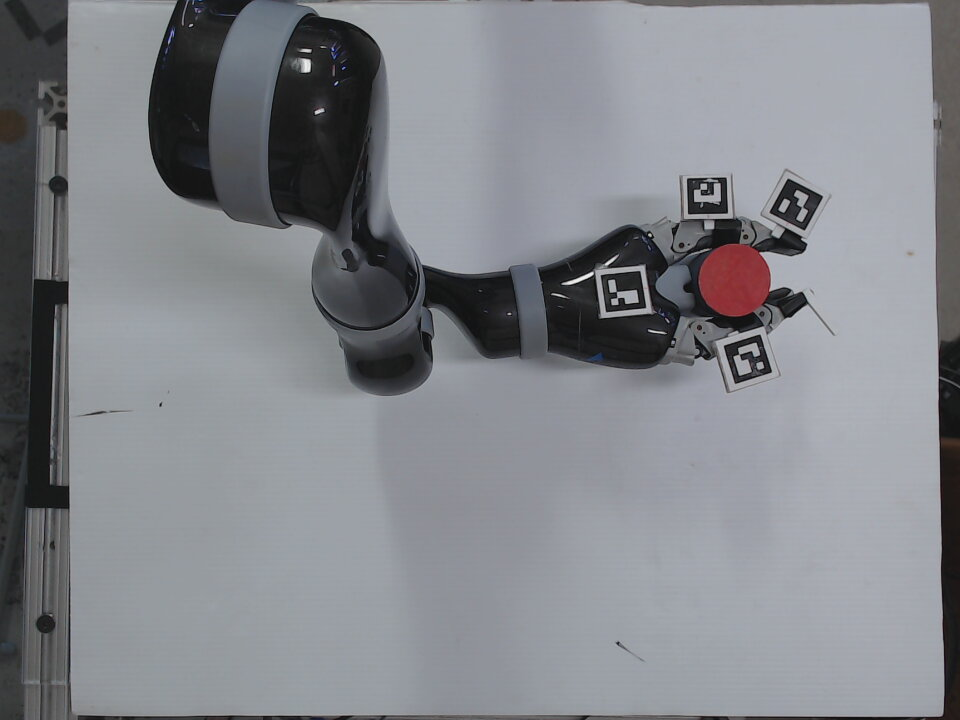cylinder: (688, 241, 775, 321)
